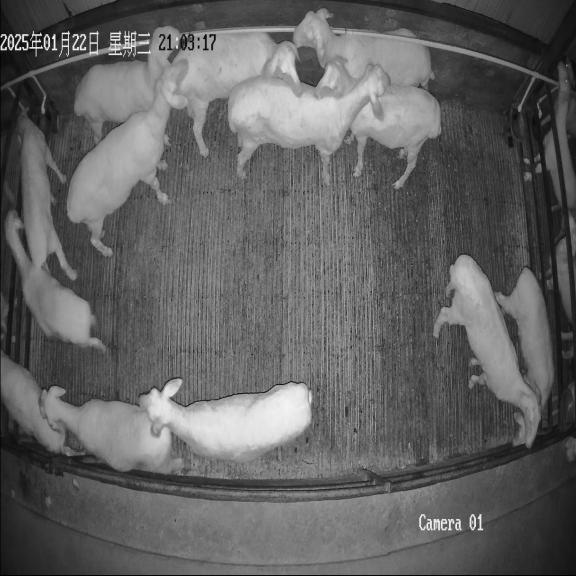drinking: (17, 113, 76, 279)
stand: (66, 58, 188, 257), (433, 255, 540, 447), (228, 66, 390, 182), (316, 58, 441, 189), (179, 32, 302, 157), (139, 378, 312, 461), (5, 210, 105, 350), (40, 386, 183, 474), (74, 26, 181, 143), (293, 9, 434, 89), (495, 267, 554, 448), (0, 352, 84, 456)
